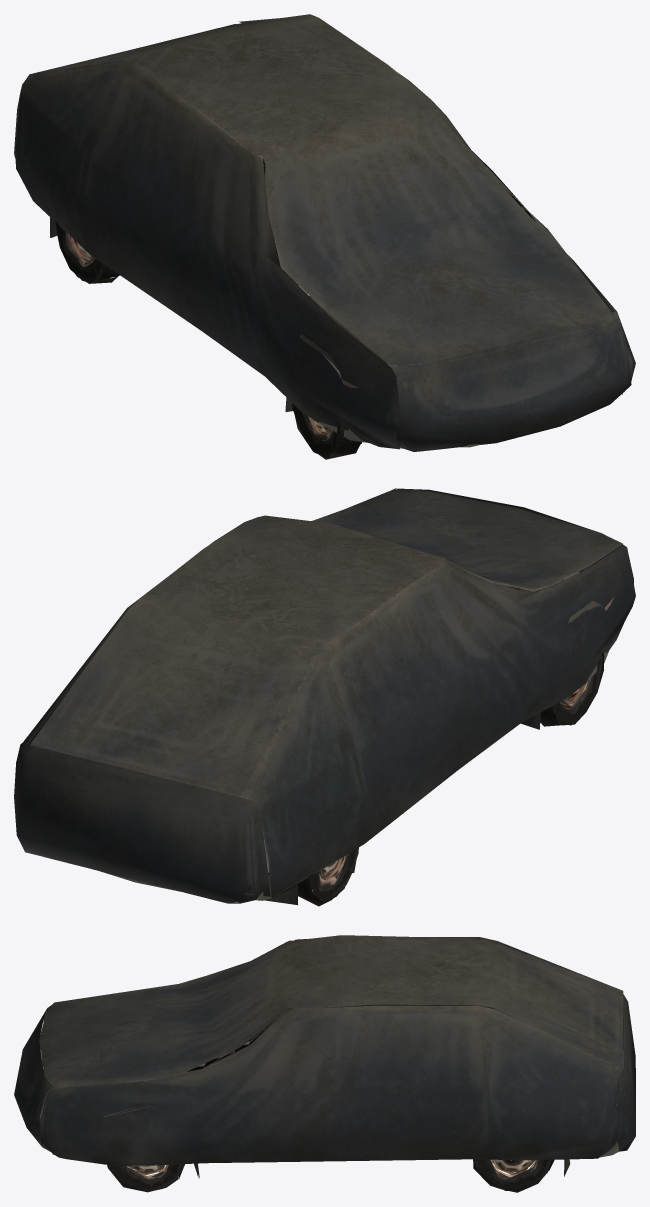
File: car_covered.glb
3 views of the same model, one above another, from view 1: azimuth 30°, elevation 25°; view 2: azimuth 150°, elevation 25°; view 3: azimuth 270°, elevation 25° (orthographic). The views are drawn at different scales.
Visible parts, largest first — view 1: car_covered; view 2: car_covered; view 3: car_covered.
Boxes of the visible parts, <box> form: car_covered: <box>14,14,635,459</box>; car_covered: <box>14,488,635,906</box>; car_covered: <box>14,935,635,1192</box>.
Size of the model in its own units: 1.8 by 1.42 by 4.38.
Materials: 2 (2 with a texture image).
